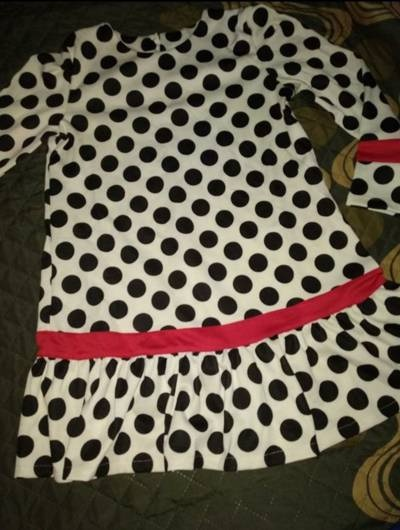Dress: (1, 11, 384, 496)
